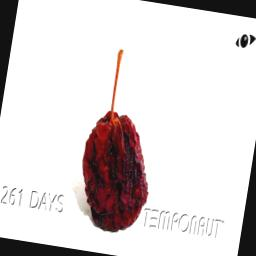Apple Rotten: (59, 10, 194, 242)
